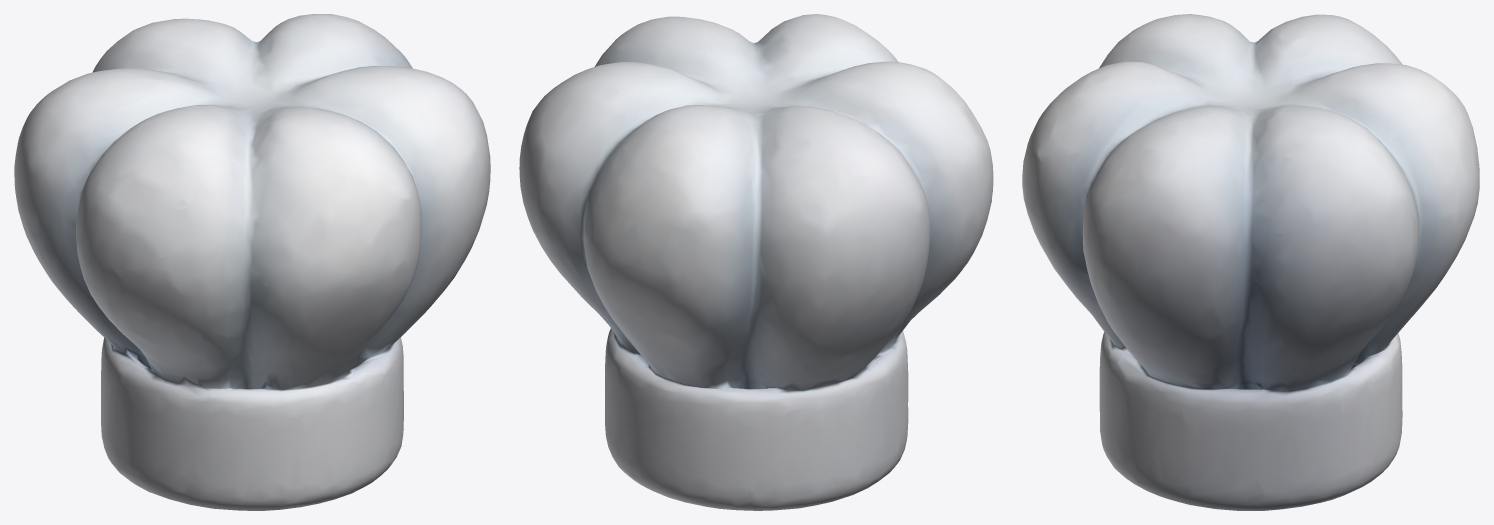
File: cs-chef-hat.glb
3 views of the same model, side by side, from view 1: azimuth 30°, elevation 25°; view 2: azimuth 150°, elevation 25°; view 3: azimuth 270°, elevation 25° (orthographic).
Visible parts, largest first — view 1: tripo_node_36a08eed-58b7-4830-8521-7569d59c8b98; view 2: tripo_node_36a08eed-58b7-4830-8521-7569d59c8b98; view 3: tripo_node_36a08eed-58b7-4830-8521-7569d59c8b98.
Part boxes in pixels (x1,y1,x2,y2): tripo_node_36a08eed-58b7-4830-8521-7569d59c8b98: [14, 14, 490, 510]; tripo_node_36a08eed-58b7-4830-8521-7569d59c8b98: [519, 14, 993, 510]; tripo_node_36a08eed-58b7-4830-8521-7569d59c8b98: [1022, 14, 1479, 510].
Bounding box in the file's own units: 0.9841 × 0.9294 × 1.
1 material, 1 textured.
